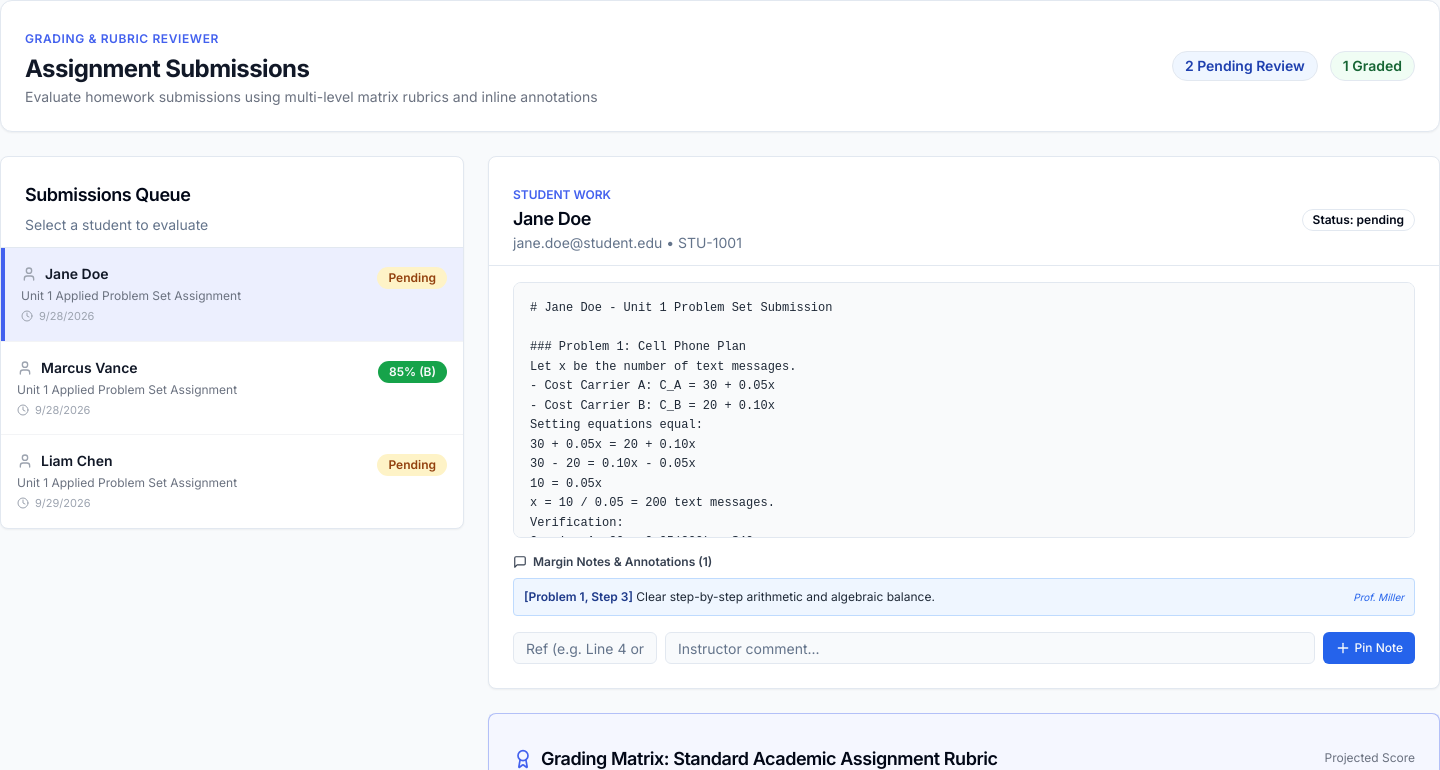
Scenario: RubricReviewerDrawer Component › allows adding an inline annotation to the submission
Type "Line 7" into the field with placeholder "Ref (e.g. Line 4 or Step 2)...".
click(585, 648); type("Line 7")  # box [513,632,657,664]
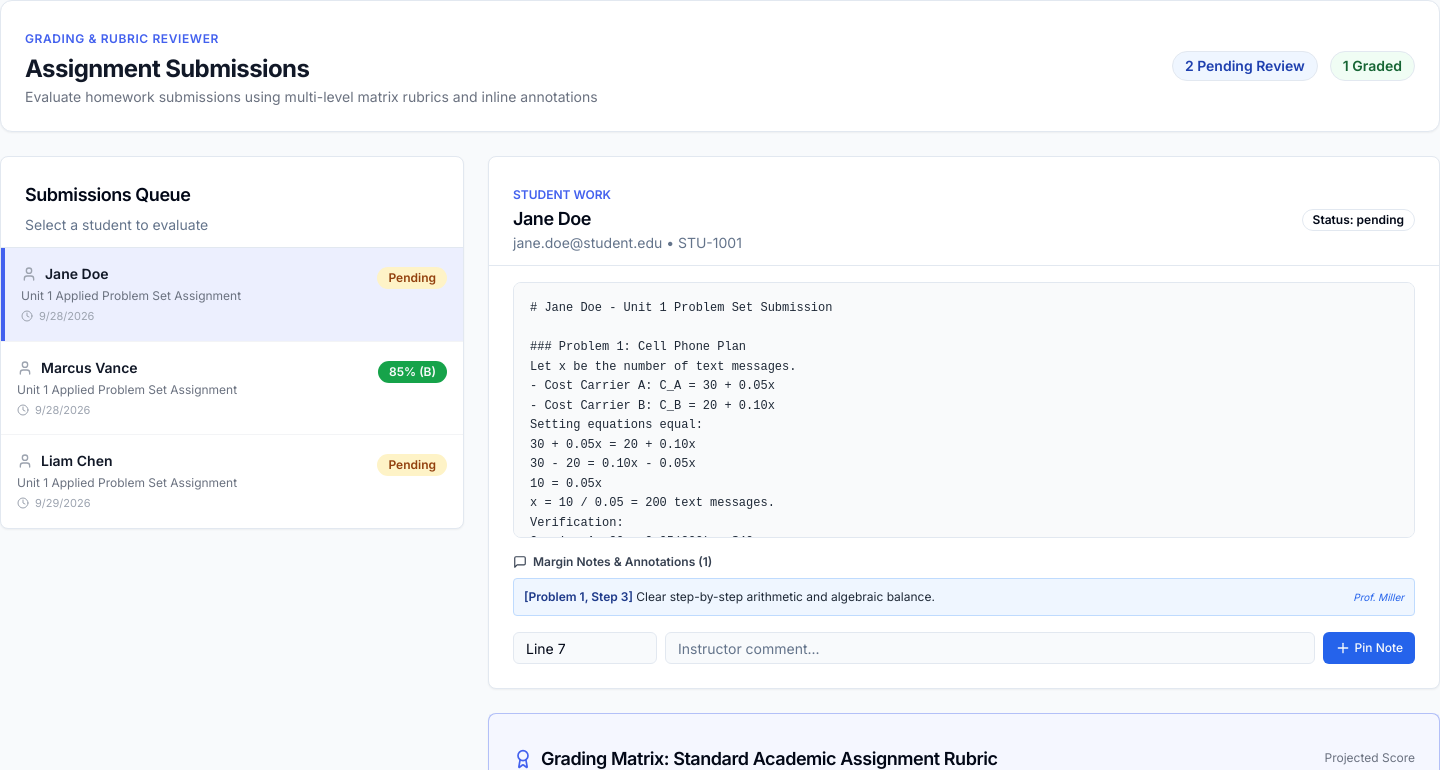
Type "Excellent algebra manipulation." into the field with placeholder "Instructor comment...".
click(990, 648); type("Excellent algebra manipulation.")  # box [665,632,1314,664]
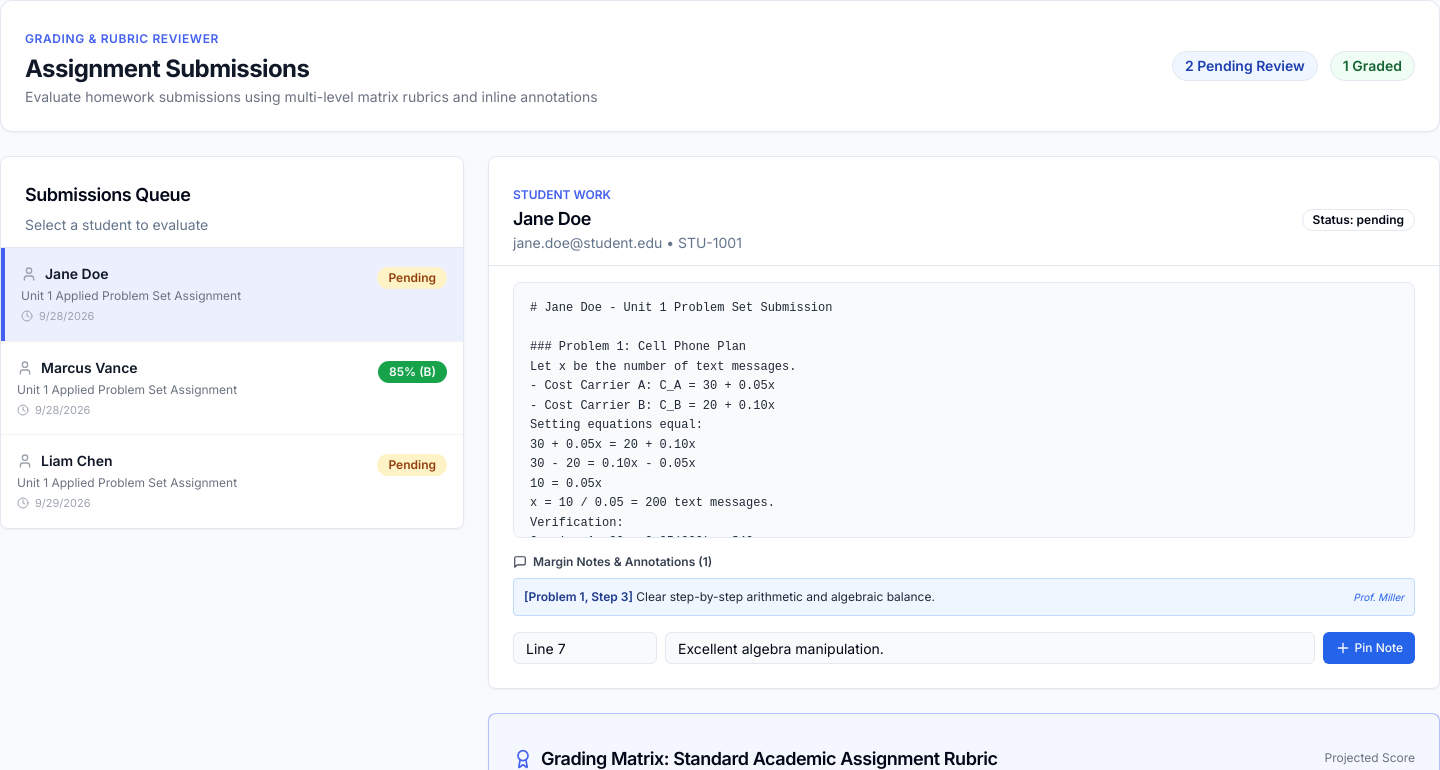
Click the button "Pin Note".
click(1369, 648)  # box [1322,632,1415,664]
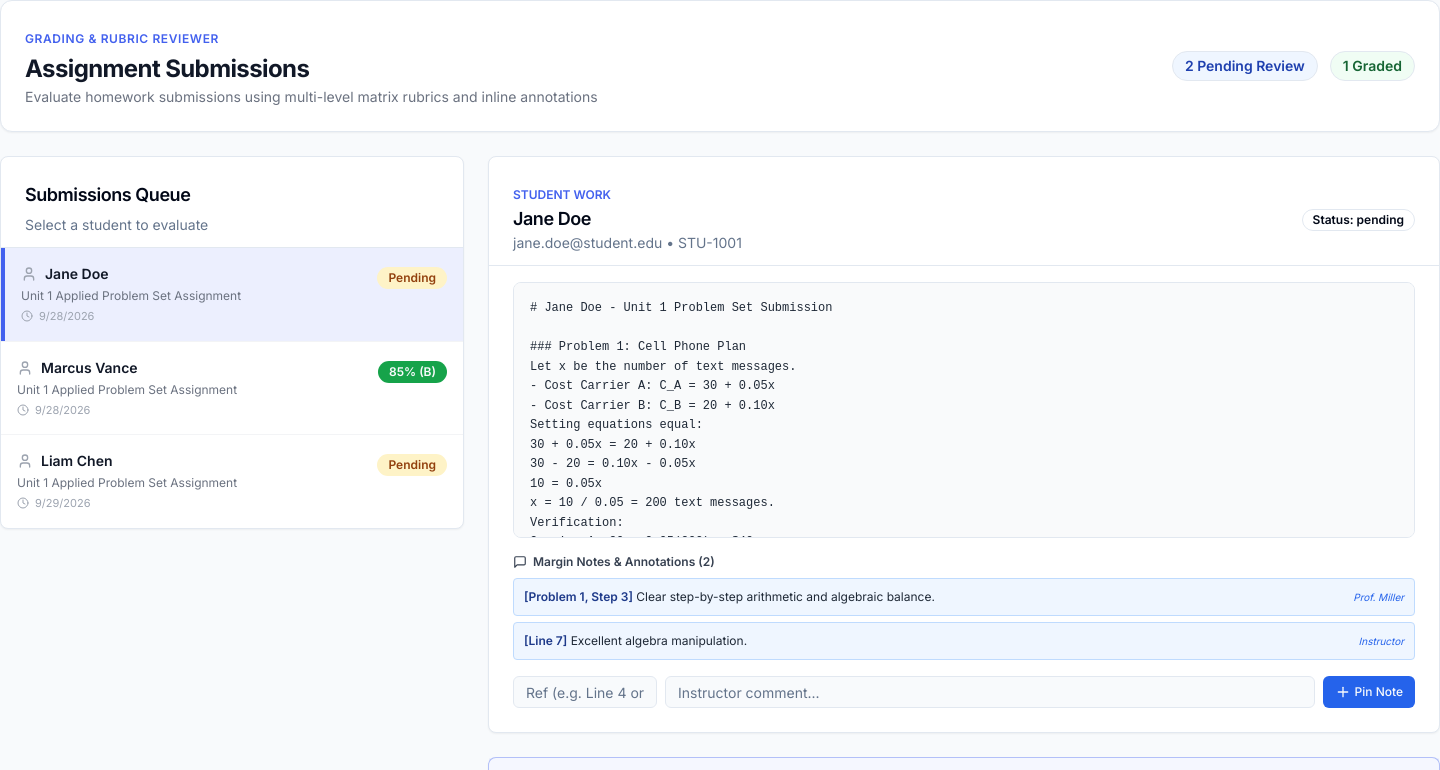
expect the text "Excellent algebra manipulation." is shown: met, box [571,633,747,648]
expect the text "[Line 7]" is shown: met, box [524,633,567,648]
